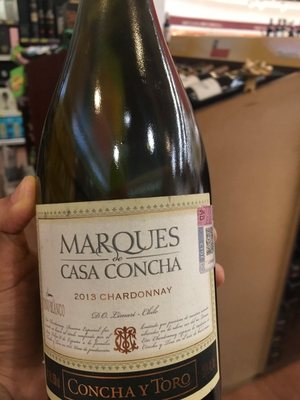marques de casa concha chardonnay: (37, 1, 235, 400)
